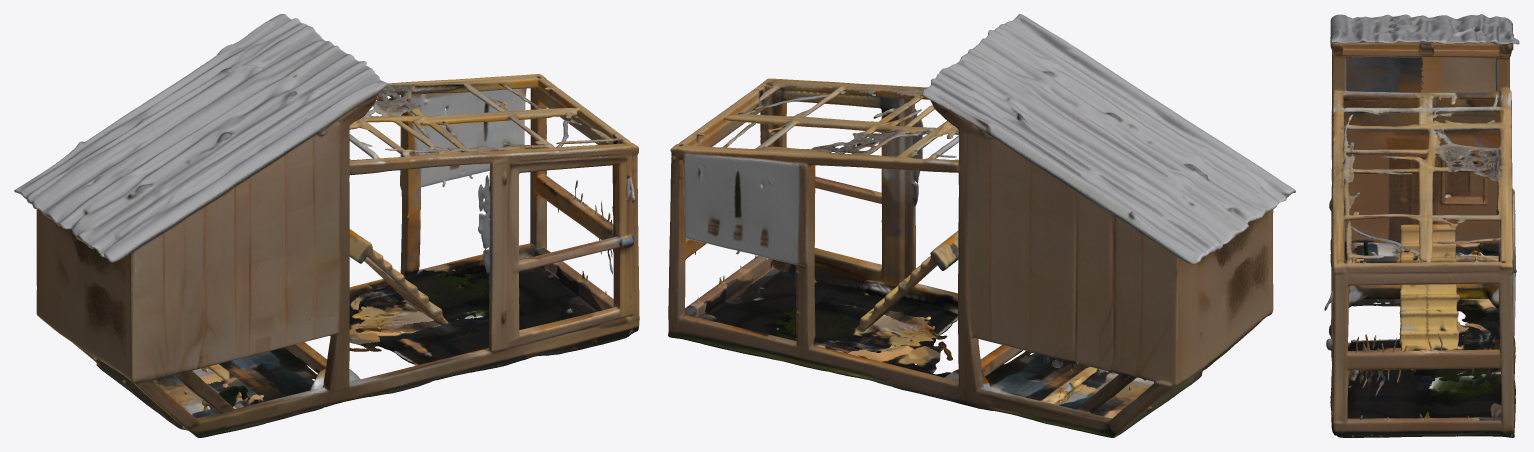
The model's file is chicken_bg.glb.
3 renders of one model, left to right at view 1: azimuth 30°, elevation 25°; view 2: azimuth 150°, elevation 25°; view 3: azimuth 270°, elevation 25°, orthographic. The views are drawn at different scales.
Visible parts, largest first — view 1: tripo_node_8a13e987-09be-4c5e-93a3-bb61f9791fa8; view 2: tripo_node_8a13e987-09be-4c5e-93a3-bb61f9791fa8; view 3: tripo_node_8a13e987-09be-4c5e-93a3-bb61f9791fa8.
Part boxes in pixels (left/top/right/bottom): tripo_node_8a13e987-09be-4c5e-93a3-bb61f9791fa8: left=14, top=14, right=639, bottom=437; tripo_node_8a13e987-09be-4c5e-93a3-bb61f9791fa8: left=668, top=14, right=1295, bottom=437; tripo_node_8a13e987-09be-4c5e-93a3-bb61f9791fa8: left=1324, top=14, right=1519, bottom=437.
Bounding box in the file's own units: 1 × 0.5675 × 0.349.
1 material, 1 textured.
